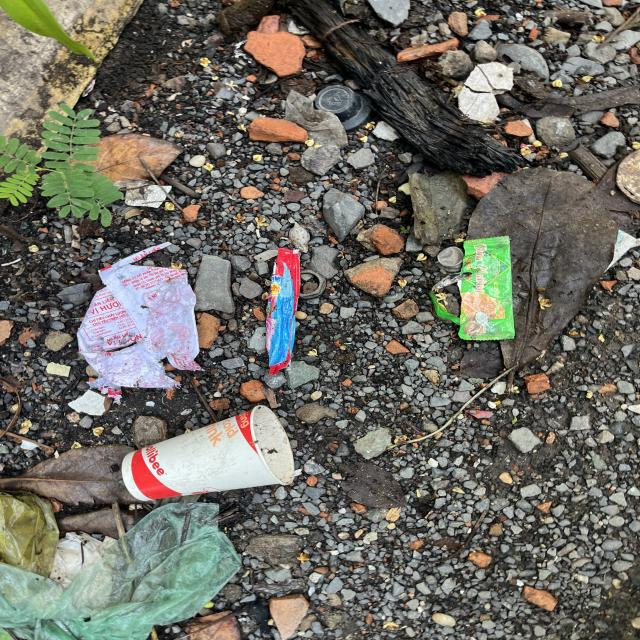bag: (0, 502, 242, 640), (0, 491, 61, 578)
packet: (430, 235, 517, 341), (265, 247, 301, 376)
plastic glass: (120, 404, 297, 502)
snack package: (76, 242, 208, 406)
